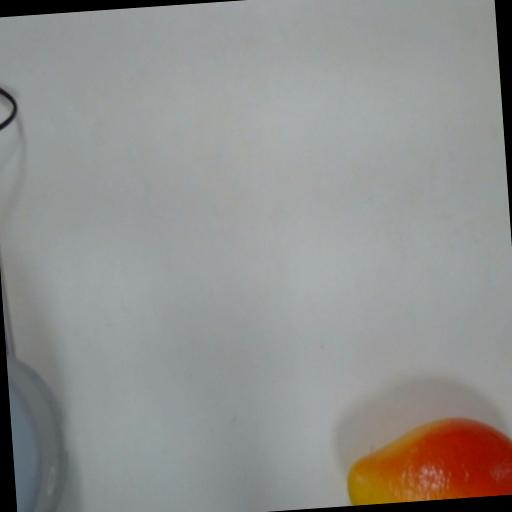Ripe: (299, 406, 512, 509)
